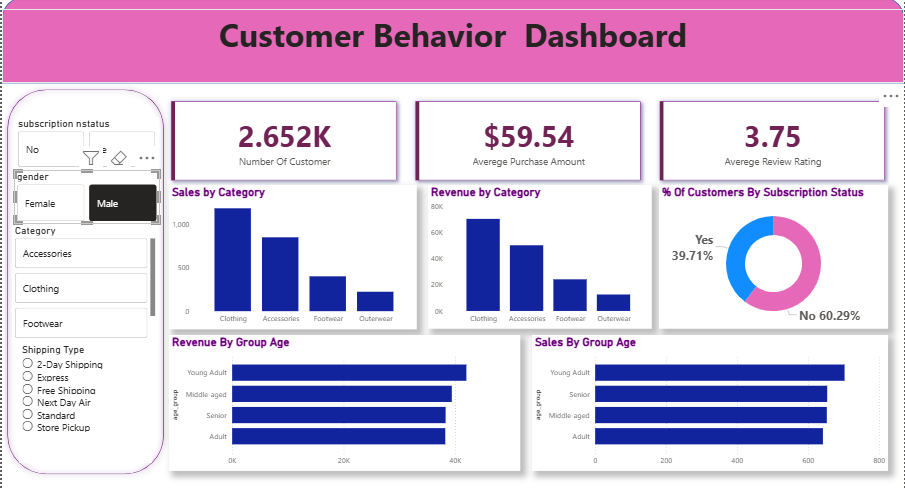

Layout of this report page (visuals, bound fields, positions):
{"tool":"powerbi","page":{"name":"Page 1","canvas":[1500,820],"ordinal":0},"visuals":[{"type":"cardVisual","fields":{"Data":["customer.Number Of Customer","customer.Averege Purchase Amount","customer.Averege Review Rating"]},"box":[253.2,143.9,1246.8,189.9],"z":0},{"type":"shape","box":[0,0,1500,143.7],"z":1000},{"type":"textbox","box":[0,19.7,1500,124],"z":2000},{"type":"clusteredColumnChart","title":"Revenue by Category","fields":{"Y":["Sum(customer.purchase_amount)"],"Category":["customer.category"]},"box":[707.8,312.7,372.1,239.8],"z":3000},{"type":"clusteredColumnChart","title":"Sales by Category","fields":{"Category":["customer.category"],"Y":["CountNonNull(customer.customer_id)"]},"box":[278.1,312.7,412.4,239.8],"z":4000},{"type":"donutChart","title":"% Of Customers By Subscription Status","fields":{"Category":["customer.subscription_status"],"Y":["CountNonNull(customer.customer_id)"]},"box":[1104.9,312.7,381.7,239.8],"z":5000},{"type":"shape","box":[0,143.9,278.1,657.9],"z":6000},{"type":"advancedSlicerVisual","fields":{"Values":["customer.subscription_status"]},"box":[21.1,199.5,239.8,88.2],"z":7000},{"type":"advancedSlicerVisual","fields":{"Values":["customer.gender"]},"box":[19.2,287.7,243.6,90.2],"z":8000},{"type":"advancedSlicerVisual","fields":{"Values":["customer.category"]},"box":[17.3,377.9,243.6,197.6],"z":9000},{"type":"listSlicer","fields":{"Values":["customer.shipping_type"]},"box":[28.8,575.4,220.6,199.5],"z":10000},{"type":"clusteredBarChart","title":"Revenue By Group Age","fields":{"Y":["Sum(customer.purchase_amount)"],"Category":["customer.age_group"]},"box":[278.1,575.4,583.1,226.3],"z":11000},{"type":"clusteredBarChart","title":"Sales By Group Age","fields":{"Y":["CountNonNull(customer.customer_id)"],"Category":["customer.age_group"]},"box":[893.9,575.4,592.7,226.3],"z":12000}]}

Visuals, with their boxes in screenshot pixels (x1, y1, x2, y2), scaled from the page's 1500x820 canvas onto the 905x489 screenshot:
cardVisual - customer.Number Of Customer x customer.Averege Purchase Amount: x1=153, y1=86, x2=904, y2=199
shape: x1=0, y1=0, x2=904, y2=86
textbox: x1=0, y1=12, x2=904, y2=86
"Revenue by Category" clusteredColumnChart: x1=427, y1=186, x2=652, y2=329
"Sales by Category" clusteredColumnChart: x1=168, y1=186, x2=417, y2=329
"% Of Customers By Subscription Status" donutChart: x1=667, y1=186, x2=897, y2=329
shape: x1=0, y1=86, x2=168, y2=478
advancedSlicerVisual - customer.subscription_status: x1=13, y1=119, x2=157, y2=172
advancedSlicerVisual - customer.gender: x1=12, y1=172, x2=159, y2=225
advancedSlicerVisual - customer.category: x1=10, y1=225, x2=157, y2=343
listSlicer - customer.shipping_type: x1=17, y1=343, x2=150, y2=462
"Revenue By Group Age" clusteredBarChart: x1=168, y1=343, x2=520, y2=478
"Sales By Group Age" clusteredBarChart: x1=539, y1=343, x2=897, y2=478
